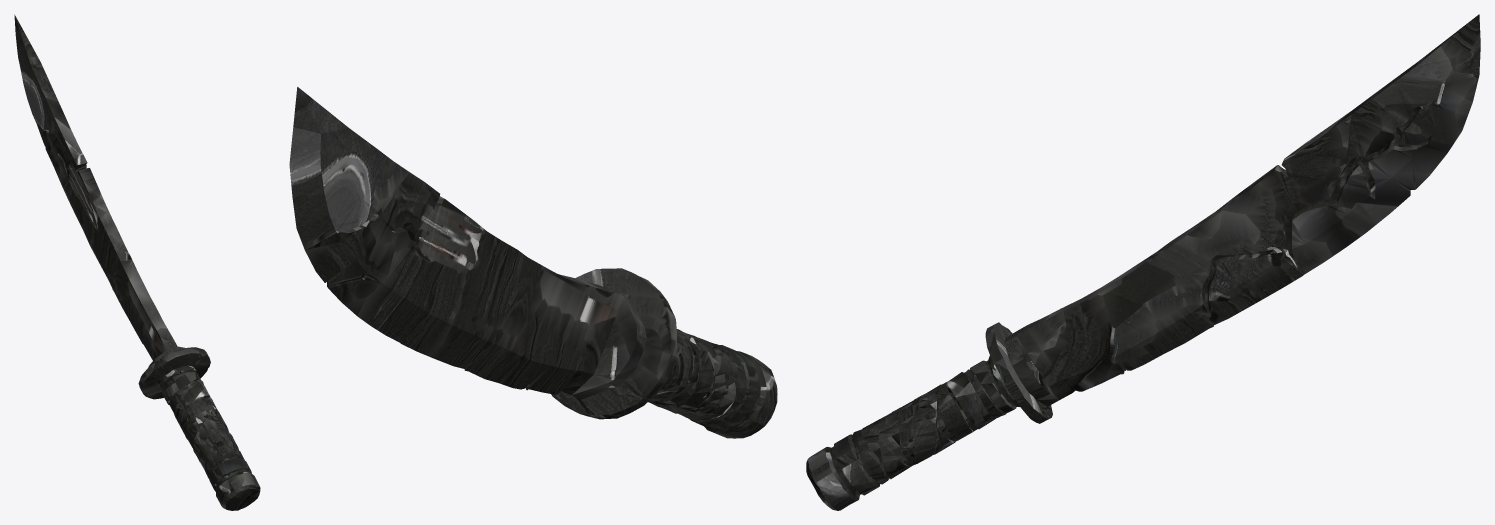
File: spirit_sword.obj
3 renders of one model, left to right at view 1: azimuth 30°, elevation 25°; view 2: azimuth 150°, elevation 25°; view 3: azimuth 270°, elevation 25°, orthographic. The views are drawn at different scales.
Bounding box in the file's own units: 2 × 9.65 × 12.
